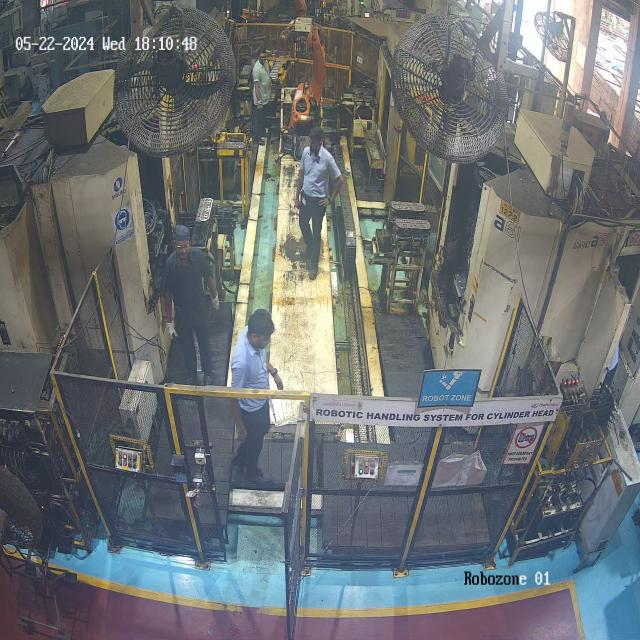person: (153, 218, 226, 394), (228, 308, 286, 488), (296, 130, 344, 296), (249, 46, 278, 150)
